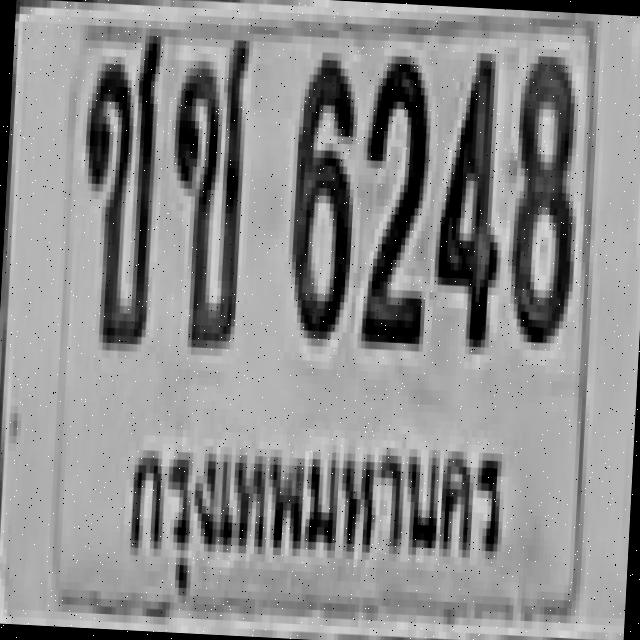19ChorChang: (160, 27, 250, 346), (72, 26, 162, 344)
2: (354, 48, 431, 344)
4: (431, 48, 504, 344)
6: (284, 52, 357, 340)
8: (504, 48, 582, 344)
Bangkok: (108, 408, 516, 608)
